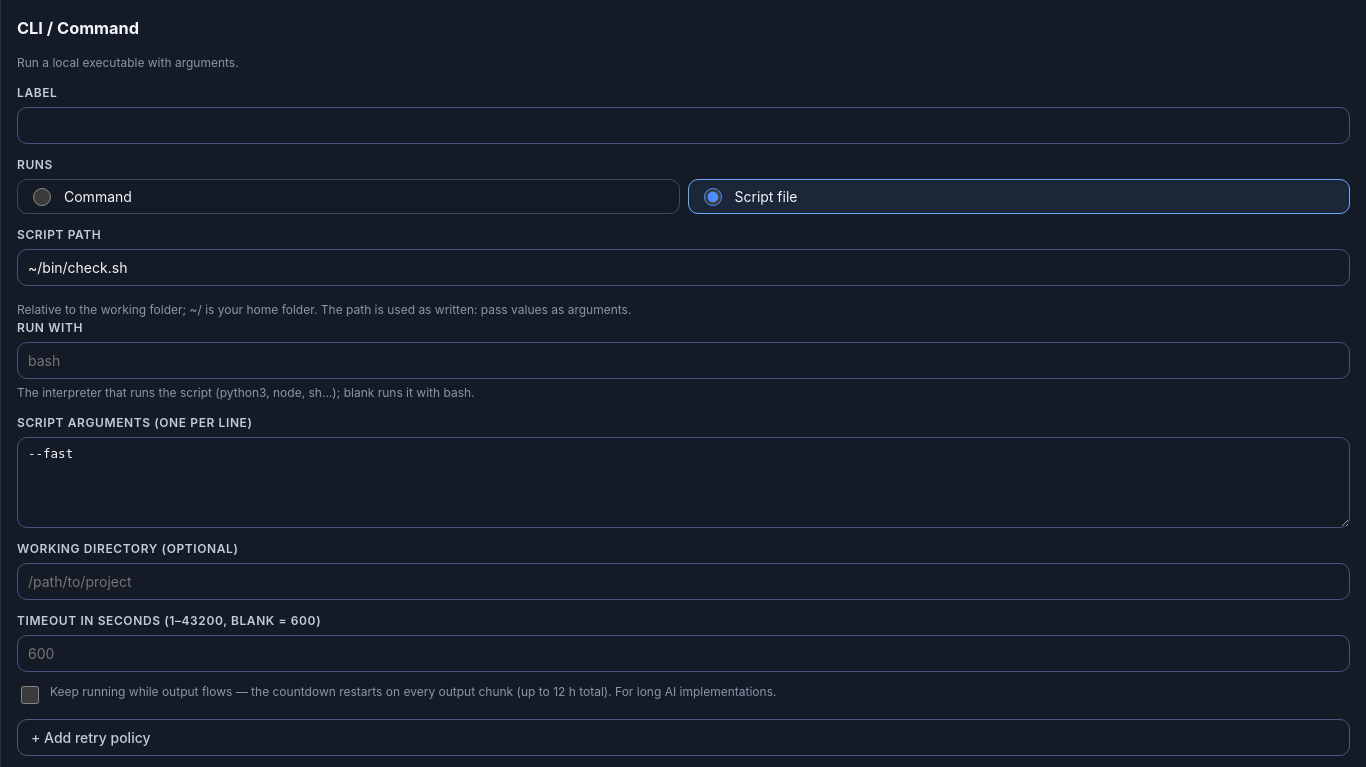
Test: keeps a home-relative script in script mode and says why
Step 1. Click the radio button labelled "Command" → (42, 197), box [33, 188, 51, 206]
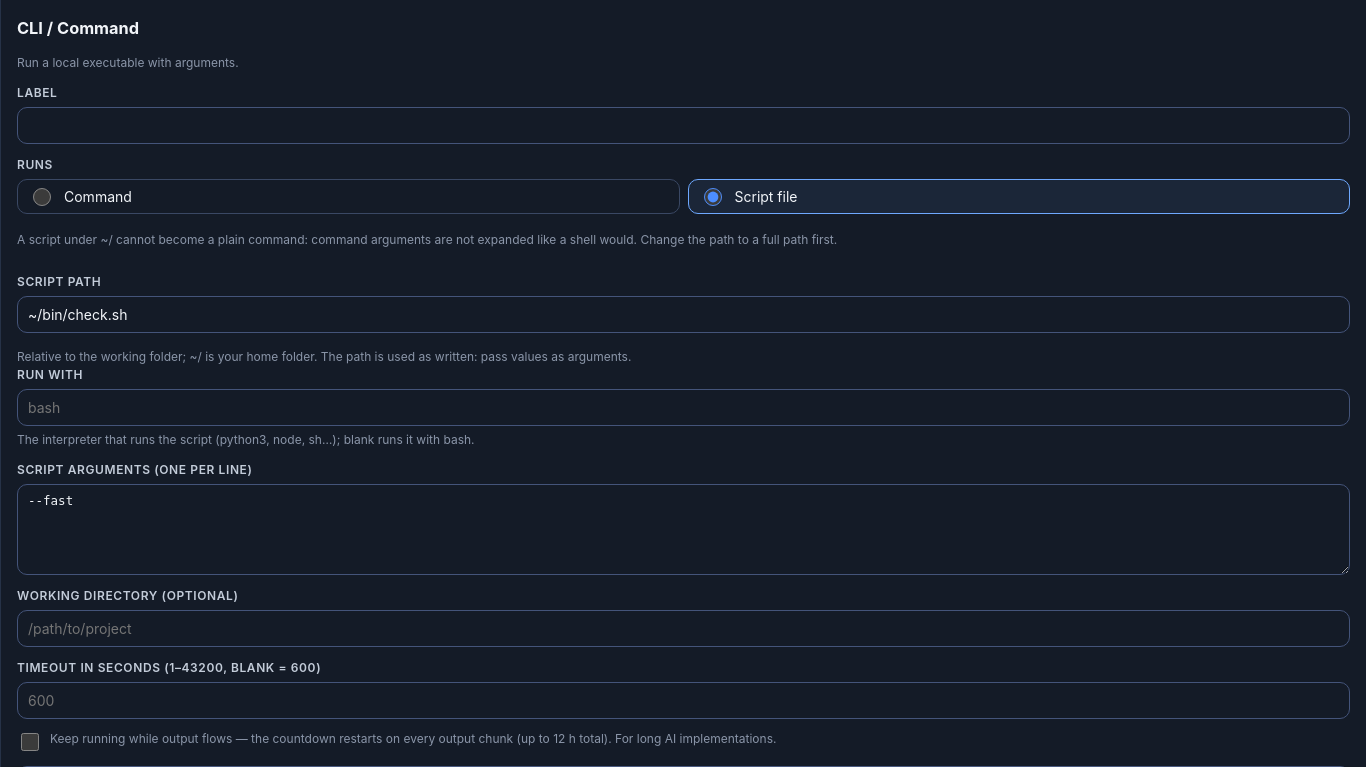
Check: the radio button labelled "Script file" is checked, box [704, 188, 722, 206]
Check: the text "cannot become a plain command" is shown, box [17, 232, 837, 247]
